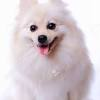dog: (13, 1, 73, 57)
